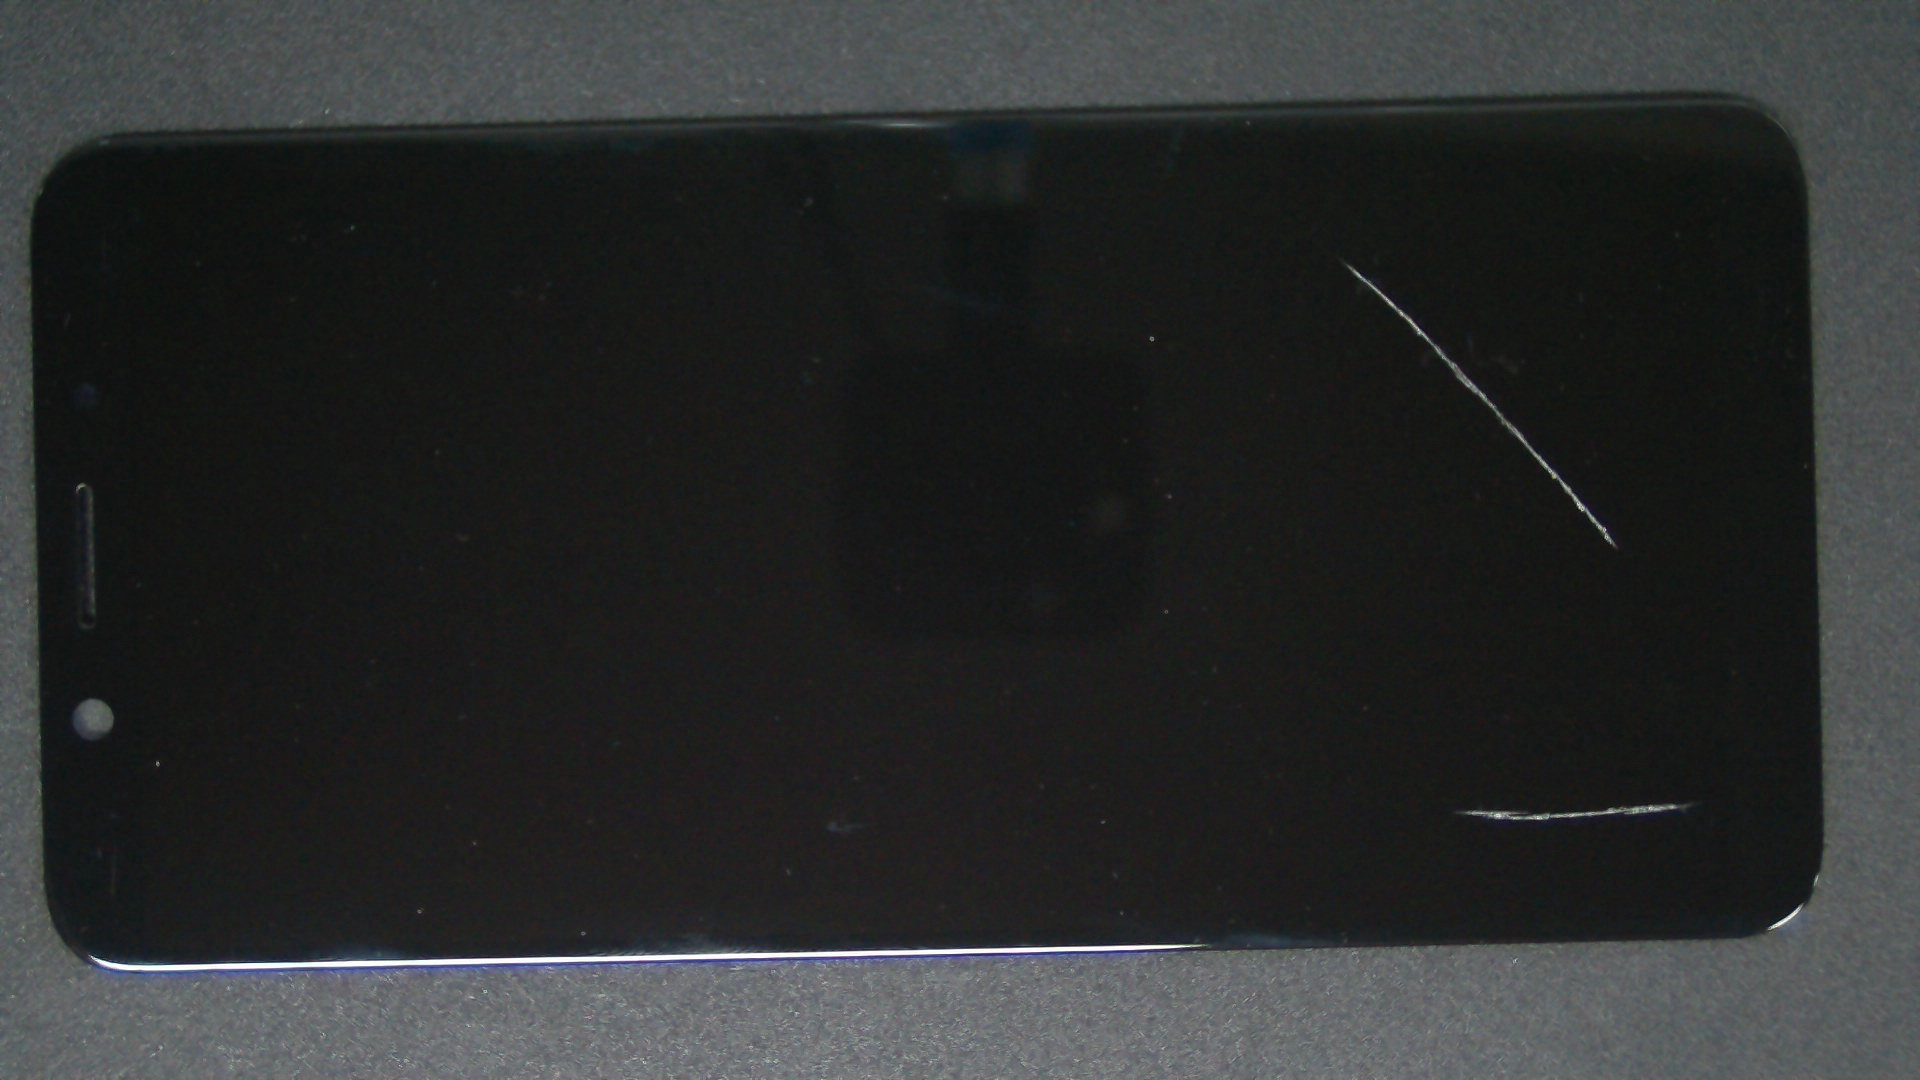oil: (833, 401, 1920, 1080), (671, 131, 1920, 394)
